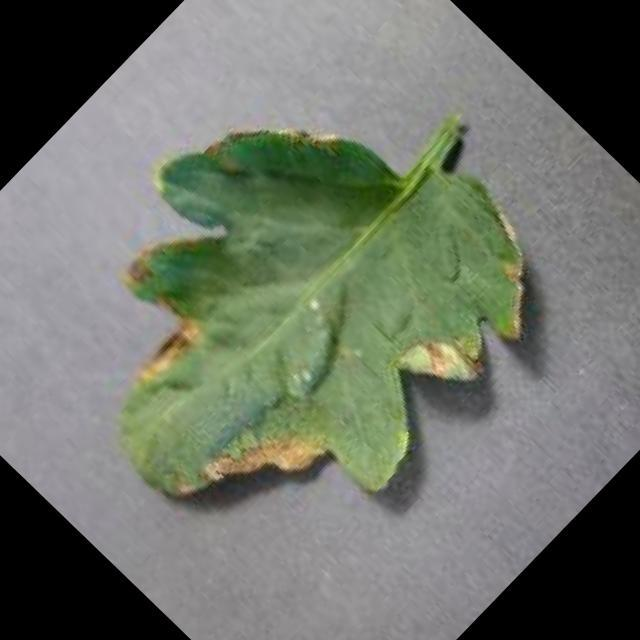Tomato bacterial spot leaf: (0, 8, 593, 618)
